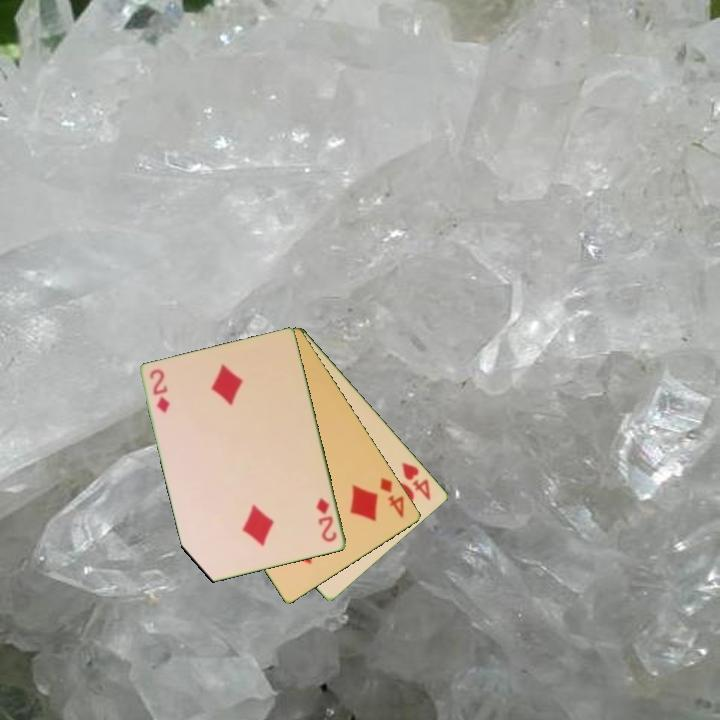2d: (313, 495, 340, 545), (147, 366, 173, 416)
4d: (377, 474, 408, 521)
4h: (398, 459, 434, 503)
